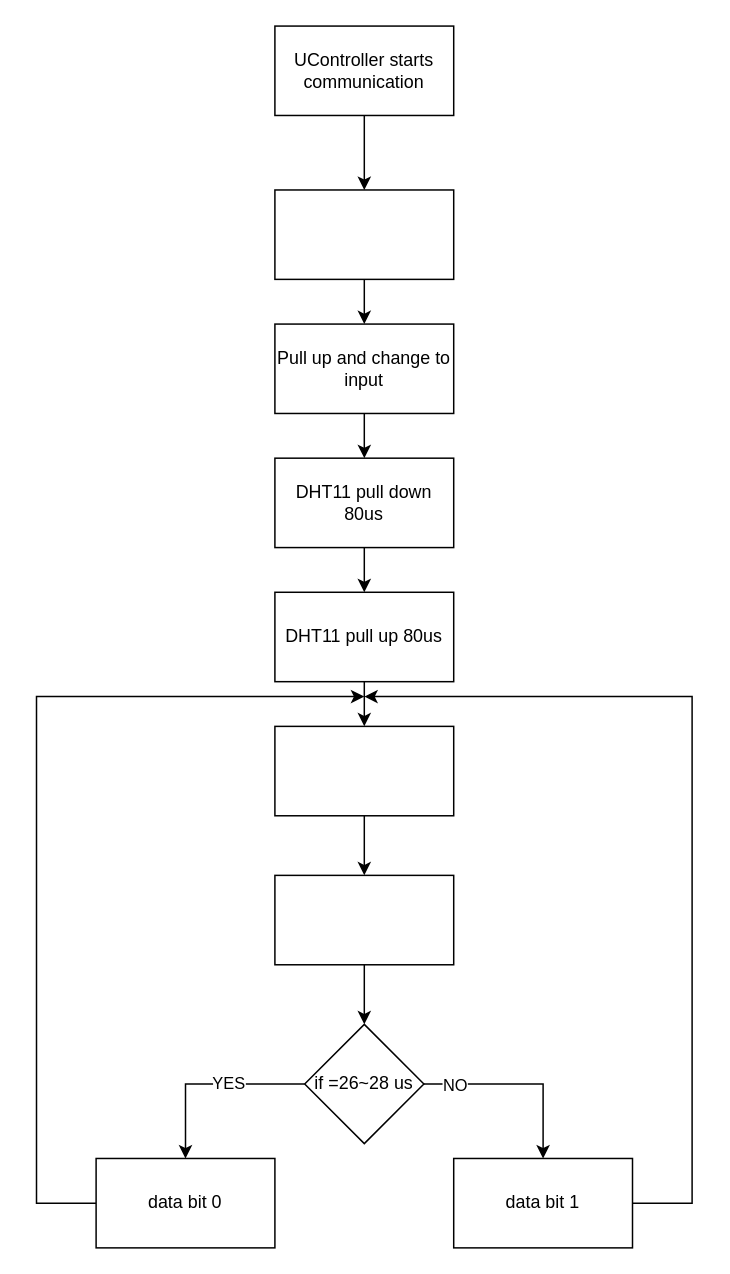
Image size: 730x1274. Some labels were removed from this diagram. Each missing label, with the box of its shape:
DHT11 pull up data: (273, 874, 454, 965)
DHT11 Start transmit pull down 50us: (273, 725, 454, 816)
Pull down > 18ms: (273, 188, 454, 279)
